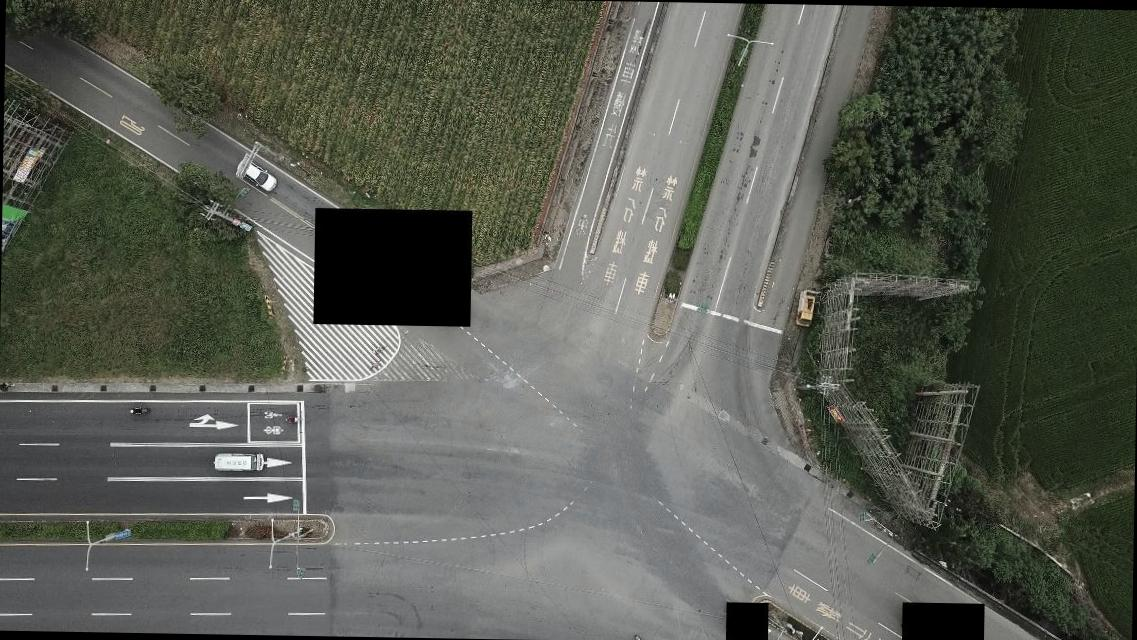vehicle: (234, 158, 278, 193), (212, 449, 264, 473), (794, 293, 817, 327)
